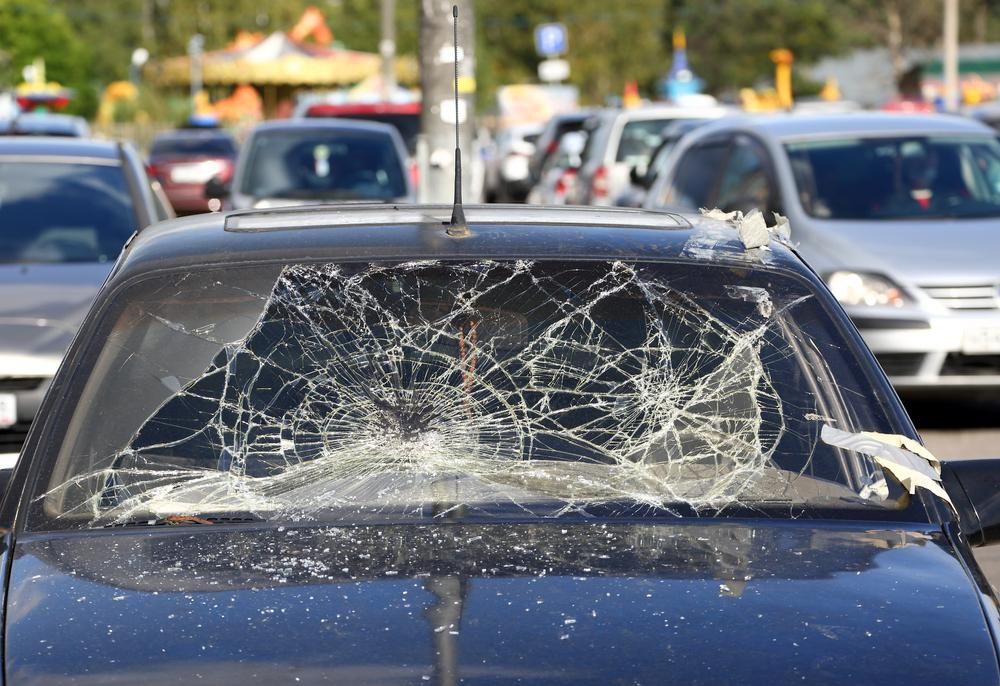glass shatter: (21, 258, 932, 536)
